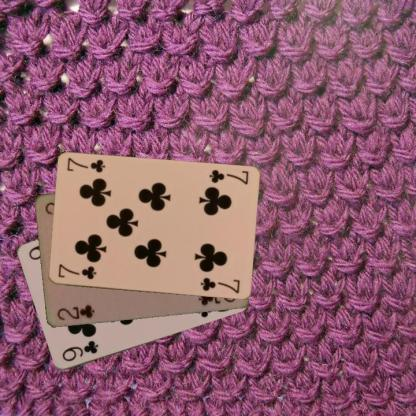2c: (54, 302, 96, 322)
7c: (55, 261, 98, 281), (206, 167, 249, 186)
9c: (59, 338, 100, 363)
